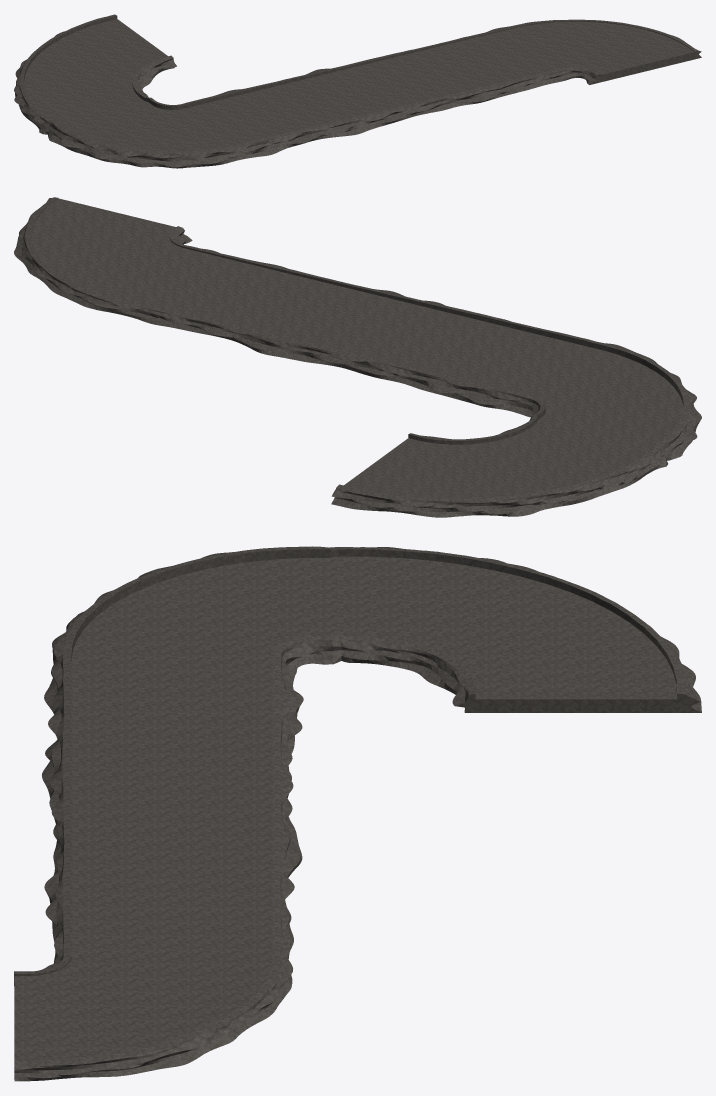
The model's file is VolcanicCliffTerrain.glb.
3 views of the same model, one above another, from view 1: azimuth 30°, elevation 25°; view 2: azimuth 150°, elevation 25°; view 3: azimuth 270°, elevation 25° (orthographic). The views are drawn at different scales.
Visible parts, largest first — view 1: VolcanicCliff_Foundation_001, VolcanicCliff_01_001, VolcanicCliff_02_001, VolcanicCliff_01_002; view 2: VolcanicCliff_Foundation_001, VolcanicCliff_02_001, VolcanicCliff_01_001, VolcanicCliff_01_002; view 3: VolcanicCliff_Foundation_001, VolcanicCliff_02_001, VolcanicCliff_01_001, VolcanicCliff_01_002.
Part boxes in pixels (x1,y1,x2,y2): VolcanicCliff_Foundation_001: [24, 19, 694, 151]; VolcanicCliff_01_001: [14, 55, 600, 168]; VolcanicCliff_02_001: [132, 19, 701, 109]; VolcanicCliff_01_002: [24, 14, 117, 61]; VolcanicCliff_Foundation_001: [31, 198, 683, 498]; VolcanicCliff_02_001: [14, 197, 545, 444]; VolcanicCliff_01_001: [169, 226, 701, 516]; VolcanicCliff_01_002: [331, 484, 497, 517]; VolcanicCliff_Foundation_001: [14, 556, 676, 1060]; VolcanicCliff_02_001: [14, 635, 475, 1081]; VolcanicCliff_01_001: [14, 546, 608, 985]; VolcanicCliff_01_002: [603, 599, 701, 712].
Bounding box in the file's own units: 373 × 7.65 × 208.
1 material, 1 textured.
